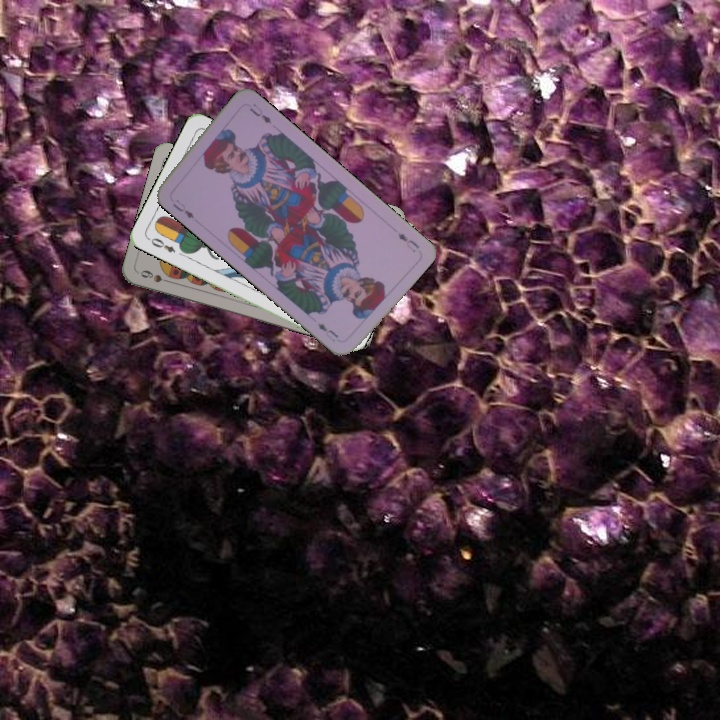EO: (144, 234, 178, 255)
EU: (394, 229, 422, 255), (169, 197, 197, 221)
S9: (136, 266, 175, 286)
